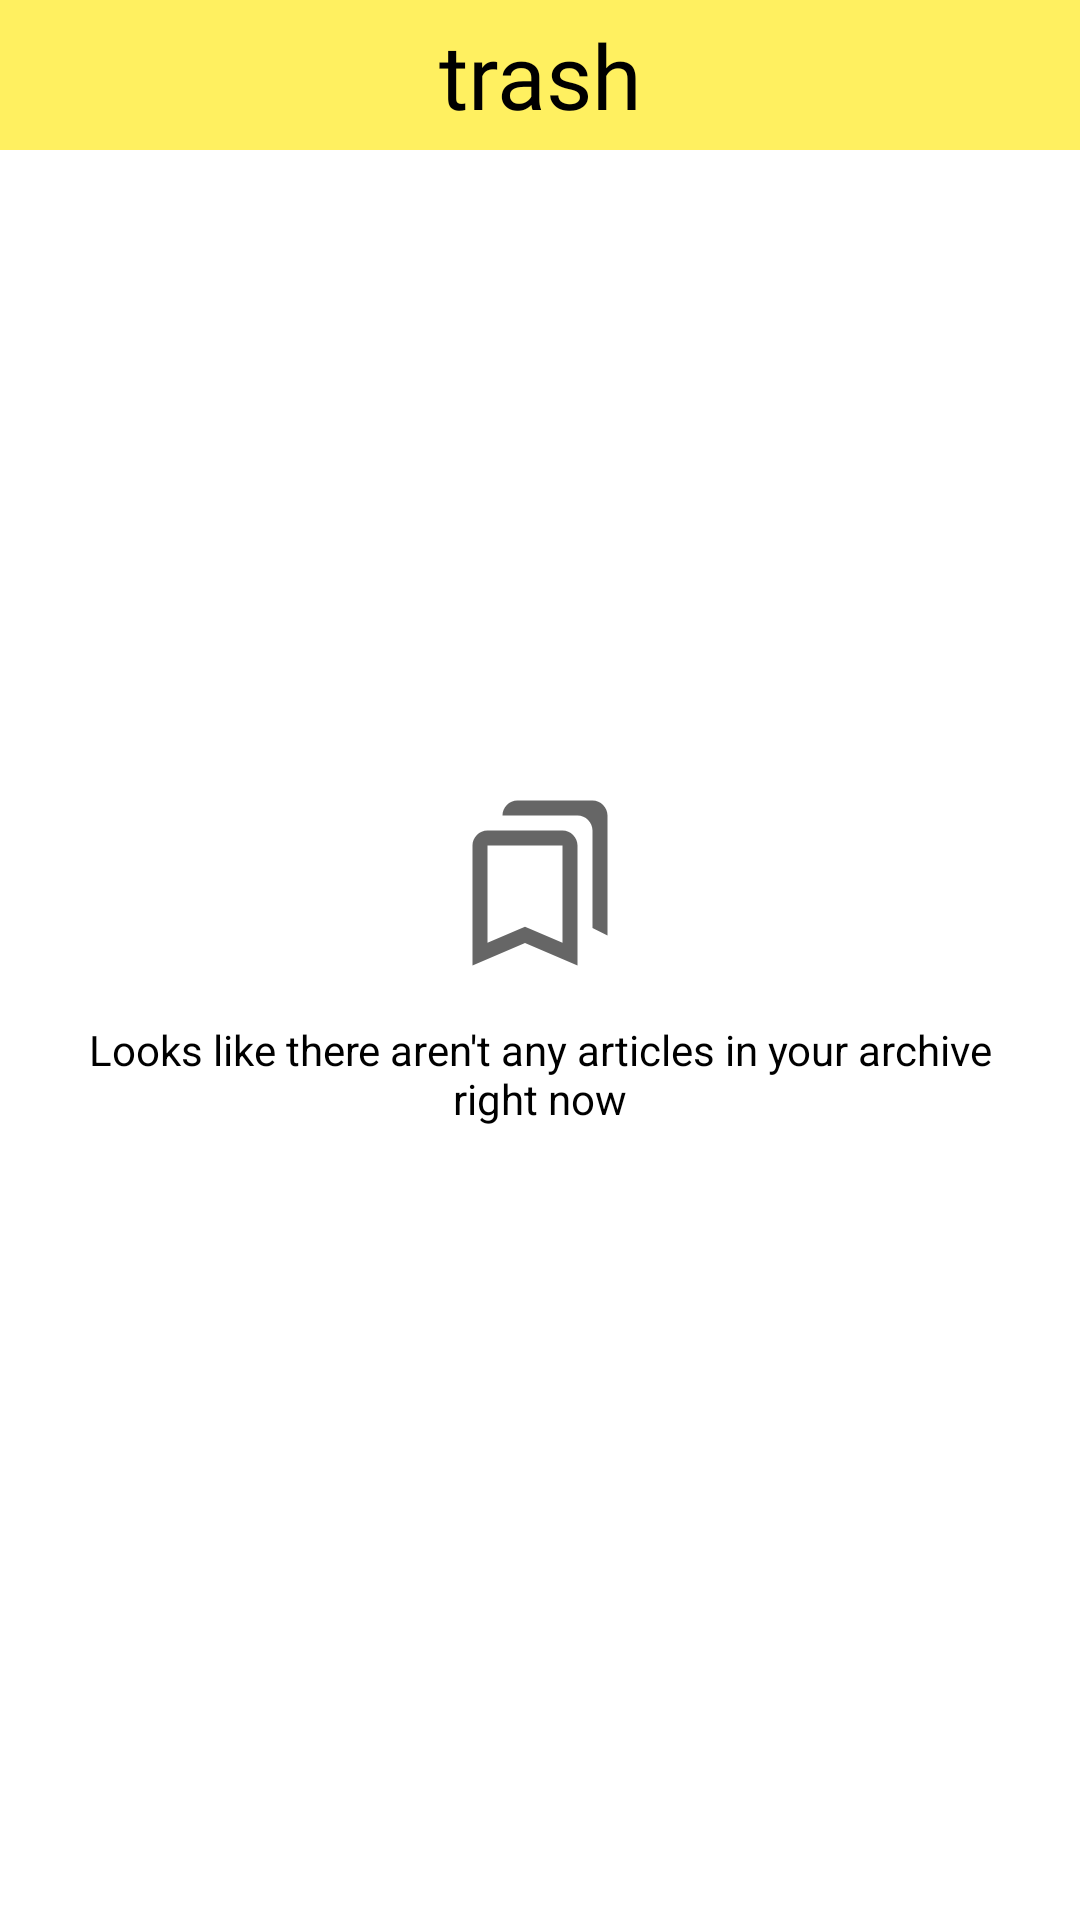

Where to tap for icons on this 1080×1920 app screen, as (x=x, y=y):
bookmarks: (x=540, y=883)
